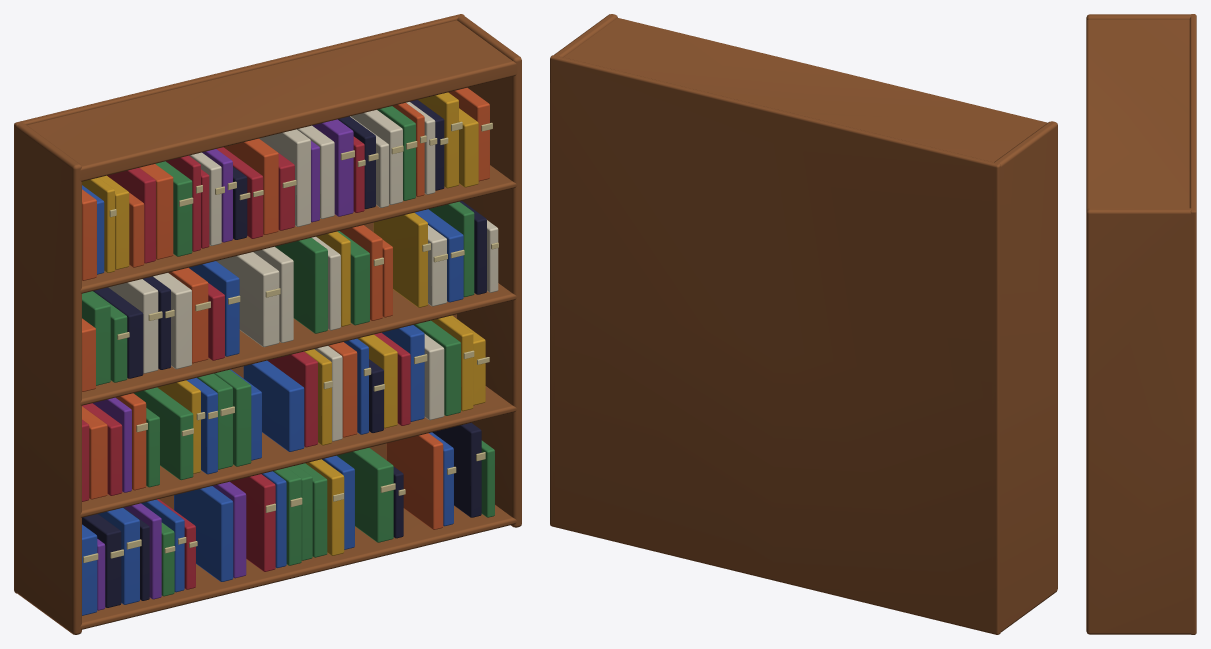
File: furn_shelf_book.glb
3 renders of one model, left to right at view 1: azimuth 30°, elevation 25°; view 2: azimuth 150°, elevation 25°; view 3: azimuth 270°, elevation 25°, orthographic. The views are drawn at different scales.
Visible parts, largest first — view 1: furn_shelf_book_main; view 2: furn_shelf_book_main; view 3: furn_shelf_book_main.
Part boxes in pixels (box(x1,y1,x2,y2)): furn_shelf_book_main: box(14, 14, 521, 634); furn_shelf_book_main: box(550, 14, 1057, 634); furn_shelf_book_main: box(1086, 14, 1196, 634).
Size of the model in its own units: 1.7 by 1.7 by 0.4.
